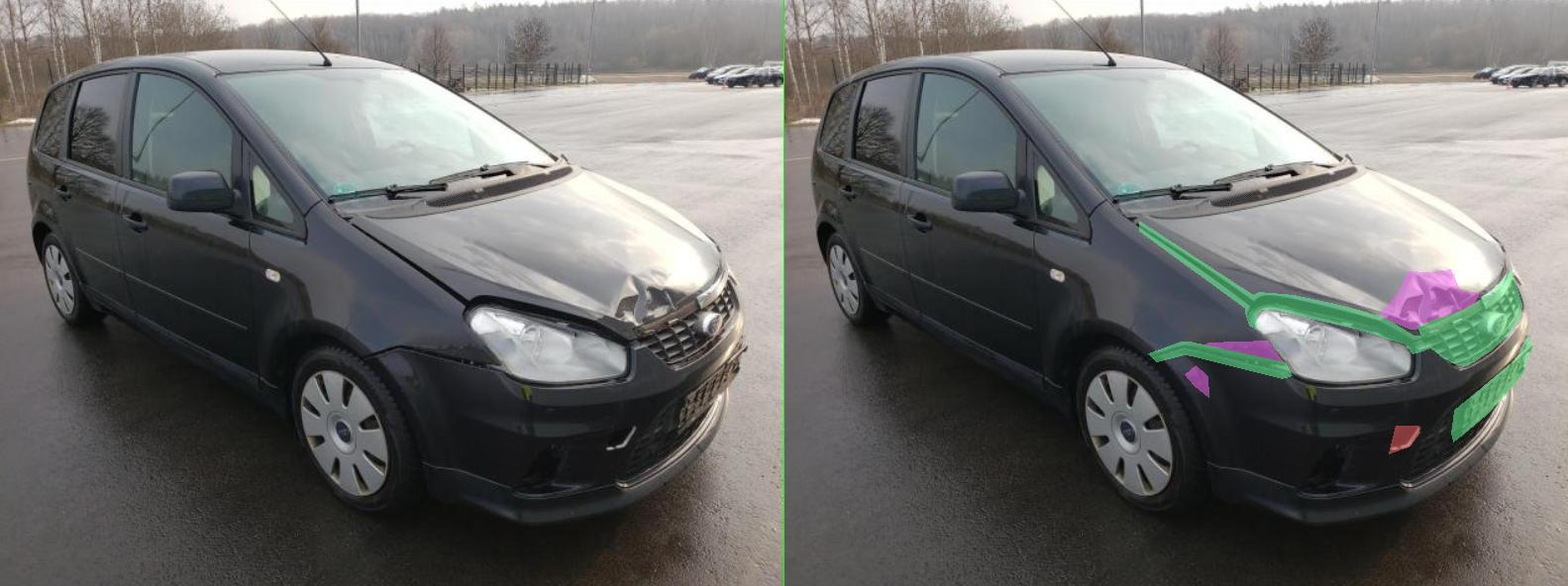Broken part: (710, 221, 1296, 353), (1267, 269, 1475, 365), (1334, 336, 1497, 441), (728, 342, 1015, 378)
Dent: (1187, 269, 1390, 330), (819, 341, 999, 363), (801, 365, 848, 397)
Missing part: (1209, 426, 1271, 453)
